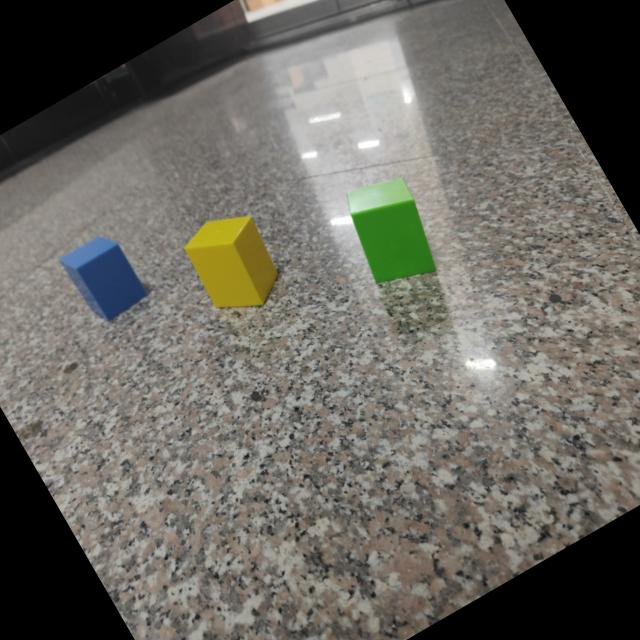blue: (60, 237, 149, 325)
green: (347, 178, 437, 286)
yellow: (185, 215, 279, 310)
